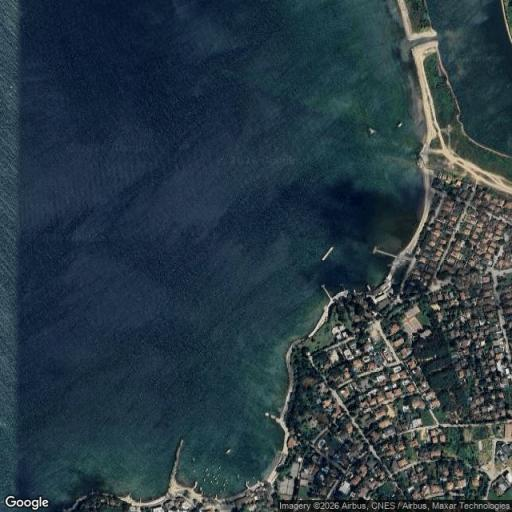ship: (322, 247, 333, 260), (233, 472, 242, 480), (220, 481, 226, 488), (204, 466, 209, 474), (215, 472, 221, 478), (203, 473, 212, 477), (214, 465, 221, 470), (200, 476, 207, 481), (226, 448, 231, 454), (192, 454, 195, 464), (224, 478, 230, 483), (224, 485, 228, 492), (192, 468, 196, 474), (210, 479, 214, 485), (213, 477, 218, 481), (251, 477, 256, 481), (212, 474, 216, 478)
